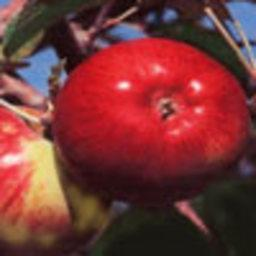apple: (54, 37, 249, 206), (1, 109, 109, 253)
